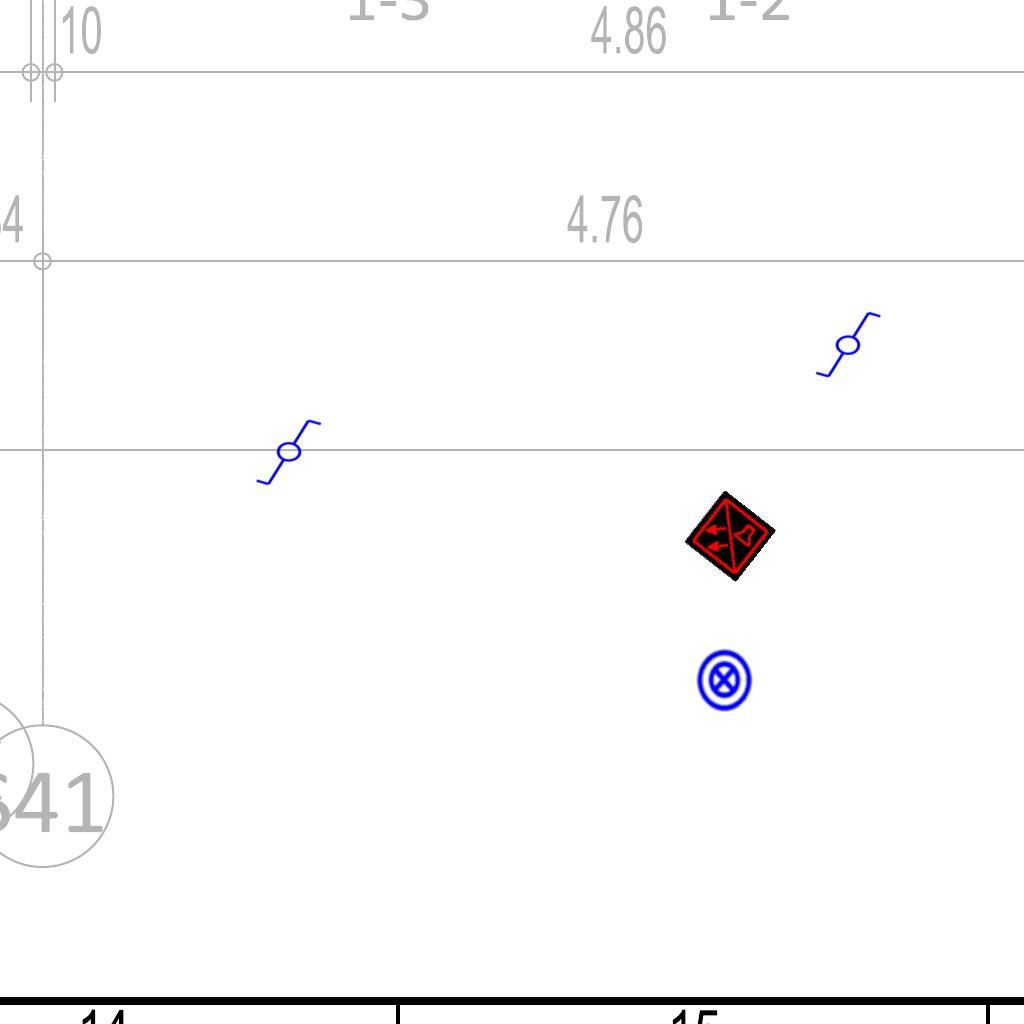OKW_Multisensormelder_(Kombination_optischer_Rauch-Kahlenmonoxid_Waerme-Melder): (683, 489, 777, 583)
Taster_beleuchtet: (691, 647, 757, 713)
Wechselschalter: (805, 308, 883, 380), (254, 417, 332, 489)
